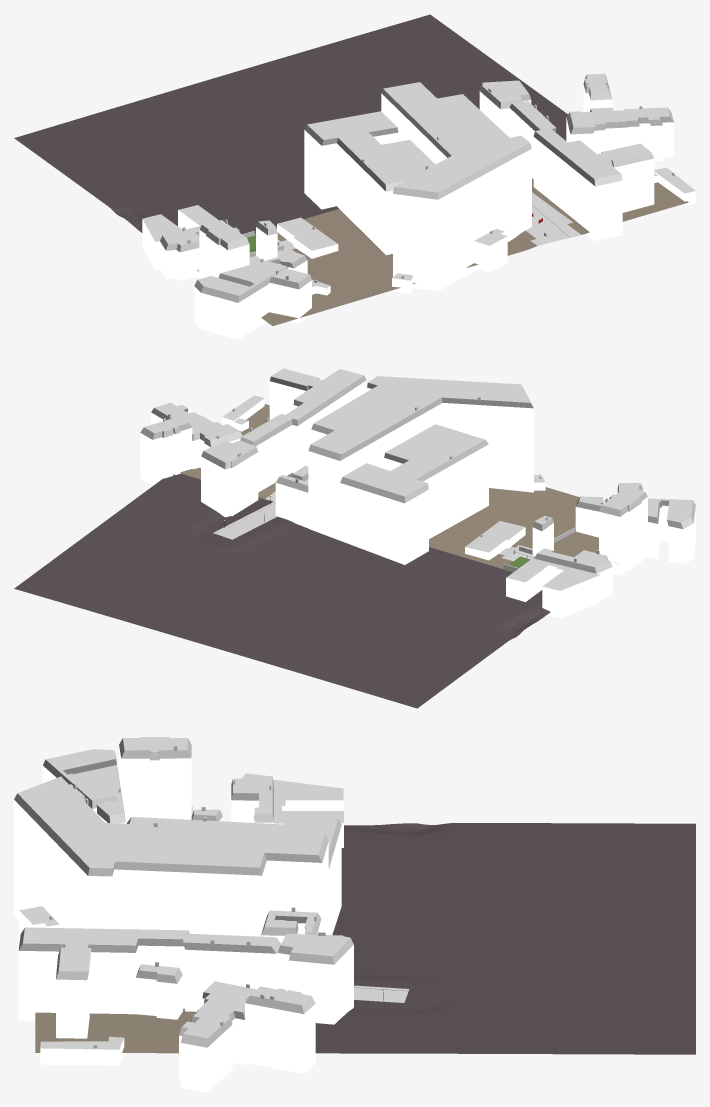
File: zone_I7.glb
The picture shows the model from 3 angles, top to bottom: view 1: azimuth 30°, elevation 25°; view 2: azimuth 150°, elevation 25°; view 3: azimuth 270°, elevation 25°; orthographic projection. The views are drawn at different scales.
Parts seen in each view (by area): view 1: zone_I7_batiments, zone_I7_terrain, zone_I7_sol_NOCOL; view 2: zone_I7_terrain, zone_I7_batiments, zone_I7_sol_NOCOL; view 3: zone_I7_batiments, zone_I7_terrain, zone_I7_sol_NOCOL.
Part boxes in pixels (box(x1,y1,x2,y2)): zone_I7_batiments: box(142, 73, 695, 339); zone_I7_terrain: box(14, 14, 688, 325); zone_I7_sol_NOCOL: box(250, 201, 572, 258); zone_I7_terrain: box(14, 404, 598, 708); zone_I7_batiments: box(140, 368, 695, 618); zone_I7_sol_NOCOL: box(213, 500, 535, 559); zone_I7_batiments: box(14, 737, 353, 1092); zone_I7_terrain: box(35, 823, 695, 1054); zone_I7_sol_NOCOL: box(354, 985, 409, 1002).
Size of the model in its own units: 245 by 50.23 by 220.
